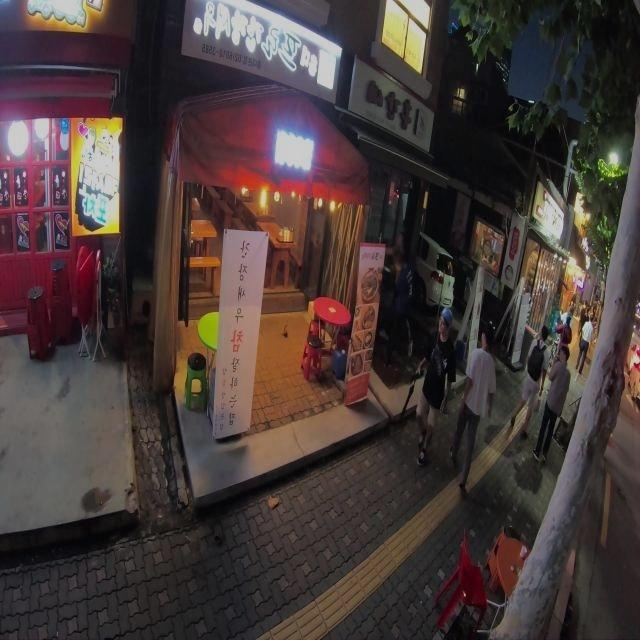non-fight: (446, 328, 499, 495), (409, 305, 457, 464), (532, 344, 572, 464), (573, 316, 594, 380)
